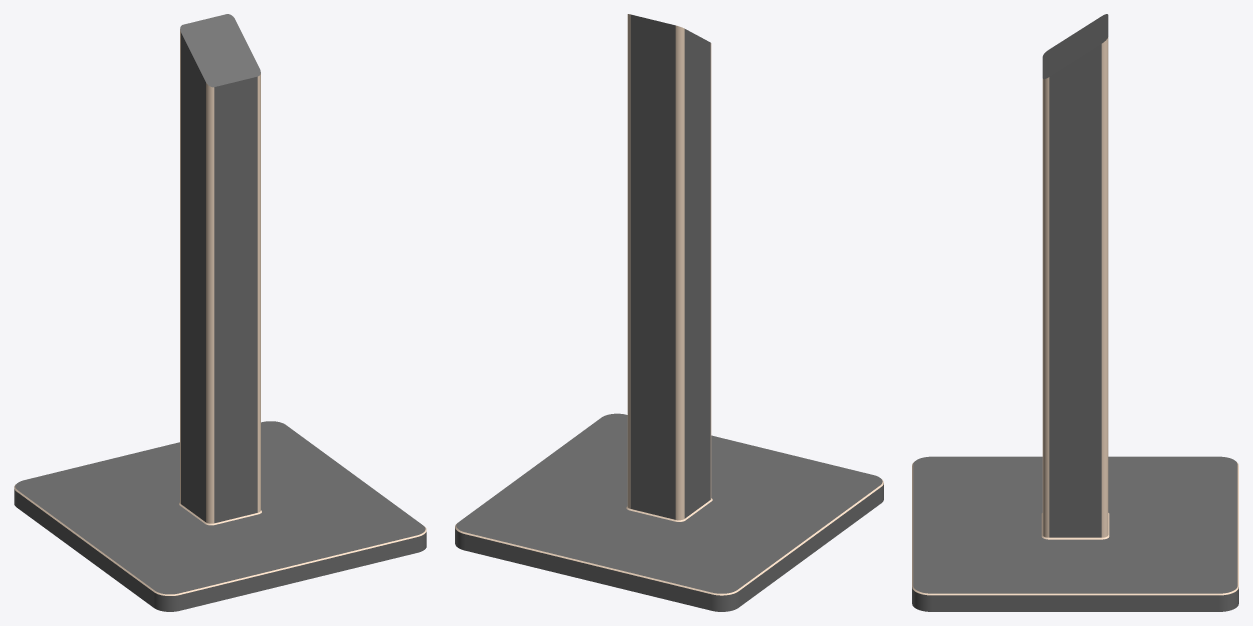
The model's file is ButtonLeg.fbx.
3 renders of one model, left to right at view 1: azimuth 30°, elevation 25°; view 2: azimuth 150°, elevation 25°; view 3: azimuth 270°, elevation 25°, orthographic. The views are drawn at different scales.
Parts seen in each view (by area): view 1: Model; view 2: Model; view 3: Model.
Part boxes in pixels (left/top/right/bottom): Model: left=14, top=14, right=426, bottom=611; Model: left=455, top=14, right=883, bottom=611; Model: left=912, top=14, right=1238, bottom=611.
Bounding box in the file's own units: 500 × 873 × 500.
